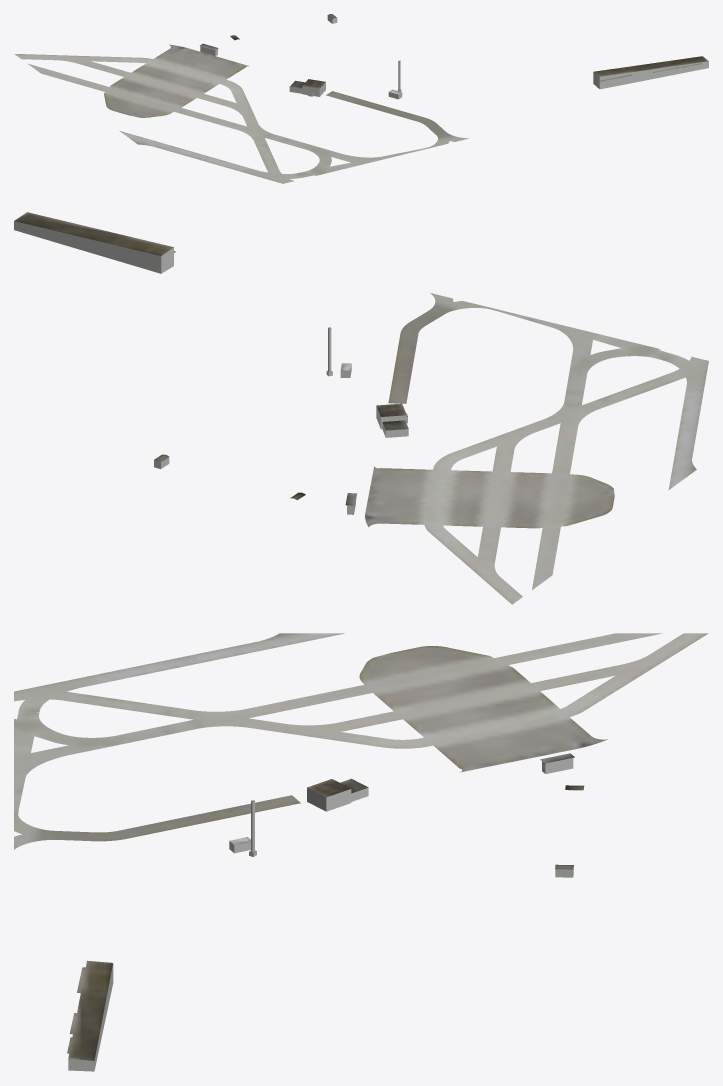
The model's file is LSZH_0_1.glb.
3 views of the same model, one above another, from view 1: azimuth 30°, elevation 25°; view 2: azimuth 150°, elevation 25°; view 3: azimuth 270°, elevation 25° (orthographic). The views are drawn at different scales.
Parts seen in each view (by area): view 1: pavement_LSZH_pavement_5367_2515, building_f45a995ee9b79578, building_d1a3e6926df25852, building_dfe7a790232ad1d1; view 2: pavement_LSZH_pavement_5367_2515, building_f45a995ee9b79578, building_d1a3e6926df25852; view 3: pavement_LSZH_pavement_5367_2515, building_d1a3e6926df25852, building_dfe7a790232ad1d1, building_f45a995ee9b79578.
Part boxes in pixels (box(x1,y1,x2,y2)): pavement_LSZH_pavement_5367_2515: box(14, 44, 469, 183); building_f45a995ee9b79578: box(593, 61, 708, 89); building_d1a3e6926df25852: box(593, 56, 708, 81); building_dfe7a790232ad1d1: box(289, 82, 325, 96); pavement_LSZH_pavement_5367_2515: box(365, 293, 708, 604); building_f45a995ee9b79578: box(14, 221, 173, 273); building_d1a3e6926df25852: box(14, 212, 175, 255); pavement_LSZH_pavement_5367_2515: box(14, 633, 708, 849); building_d1a3e6926df25852: box(67, 960, 112, 1060); building_dfe7a790232ad1d1: box(307, 787, 368, 811); building_f45a995ee9b79578: box(67, 963, 113, 1071).
Size of the model in its own units: 731 by 43.71 by 497.
3 materials, 2 textured.
